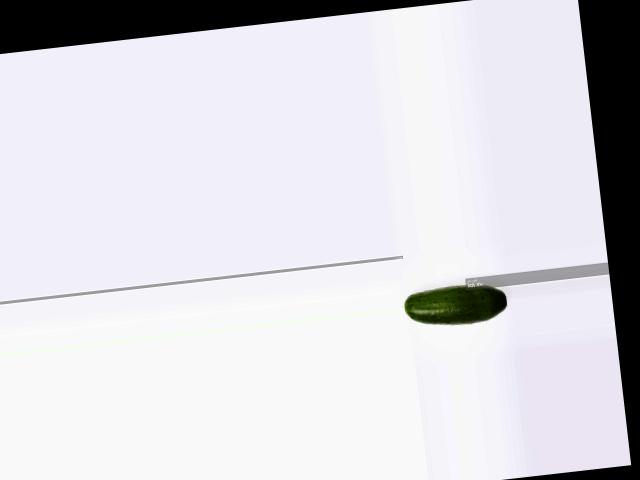cucumber: (402, 279, 510, 331)
